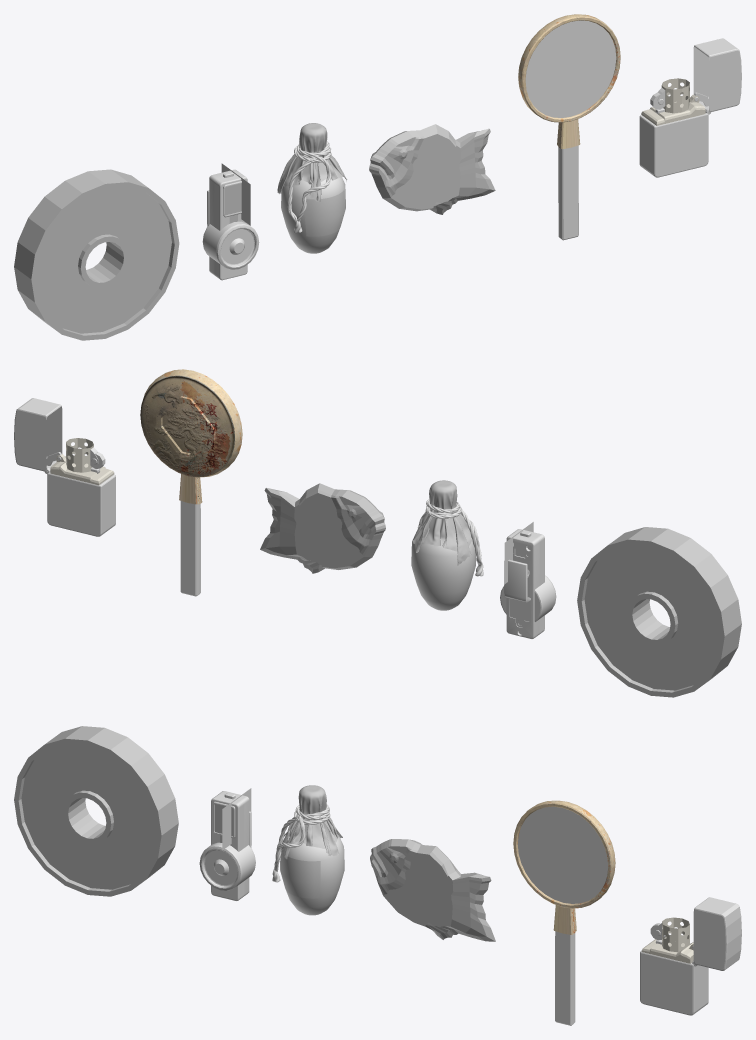
Rendered from Items.fbx.
3 renders of one model, top to bottom at view 1: azimuth 30°, elevation 25°; view 2: azimuth 150°, elevation 25°; view 3: azimuth 330°, elevation 25°, orthographic.
Visible parts, largest first — view 1: Cylinder.011, taiyaki, Cylinder.002, Cylinder.012, Plane, Plane.001, Plane.003, Cylinder.010, Cylinder.017, Cylinder.016, Cylinder, Cylinder.015 (+7 smaller); view 2: Cylinder.011, taiyaki, Cylinder.001, Cylinder.012, Plane, Cylinder.010, Plane.001, Plane.003, Cube.002, Cylinder.016, Cylinder, Cylinder.017 (+6 smaller); view 3: Cylinder.011, taiyaki, Cylinder.002, Cylinder.012, Plane, Plane.001, Cylinder.010, Plane.003, Cylinder.017, Cylinder.016, Cylinder, Cylinder.015 (+8 smaller).
Part boxes in pixels (box(x1,y1,x2,y2)): Cylinder.011: box(31, 182, 179, 340); taiyaki: box(369, 124, 495, 214); Cylinder.002: box(525, 20, 616, 117); Cylinder.012: box(14, 169, 148, 332); Plane: box(639, 113, 708, 177); Plane.001: box(693, 38, 741, 112); Plane.003: box(277, 123, 347, 201); Cylinder.010: box(281, 151, 345, 253); Cylinder.017: box(518, 14, 620, 122); Cylinder.016: box(558, 145, 578, 240); Cylinder: box(641, 78, 705, 125); Cylinder.015: box(305, 190, 344, 236); Cylinder.011: box(577, 539, 724, 697); taiyaki: box(260, 483, 385, 573); Cylinder.001: box(140, 375, 234, 477); Cylinder.012: box(608, 527, 741, 689); Plane: box(47, 472, 115, 536); Cylinder.010: box(411, 529, 475, 610); Plane.001: box(14, 398, 62, 471); Plane.003: box(413, 480, 472, 565); Cube.002: box(506, 532, 539, 638); Cylinder.016: box(180, 501, 200, 596); Cylinder: box(50, 438, 114, 485); Cylinder.017: box(144, 369, 242, 477); Cylinder.011: box(14, 738, 161, 896); taiyaki: box(370, 839, 495, 941); Cylinder.002: box(517, 806, 608, 903); Cylinder.012: box(45, 726, 178, 889); Plane: box(640, 951, 708, 1015); Plane.001: box(693, 897, 741, 970); Cylinder.010: box(280, 813, 344, 915); Plane.003: box(282, 785, 342, 859); Cylinder.017: box(513, 800, 615, 908); Cylinder.016: box(555, 931, 575, 1025); Cylinder: box(641, 917, 693, 963); Cylinder.015: box(281, 852, 320, 898).
Bounding box in the file's own units: 372 × 110 × 30.28.
